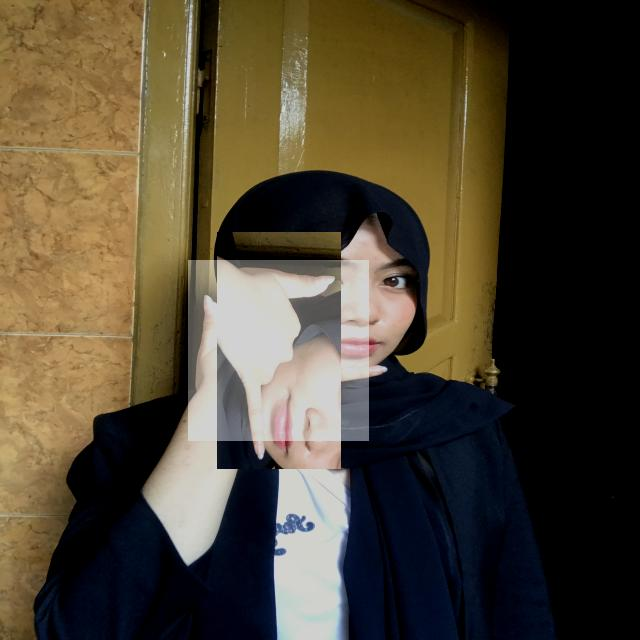telpon: (188, 260, 369, 441)
